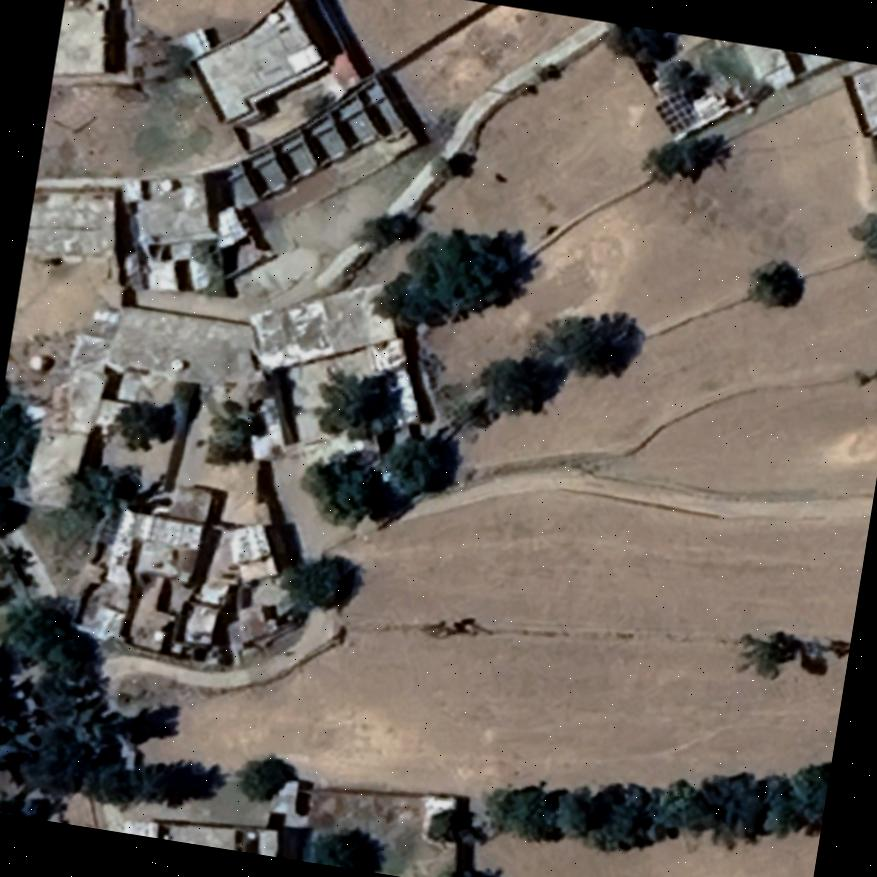Solarpanel: (648, 83, 702, 139)
